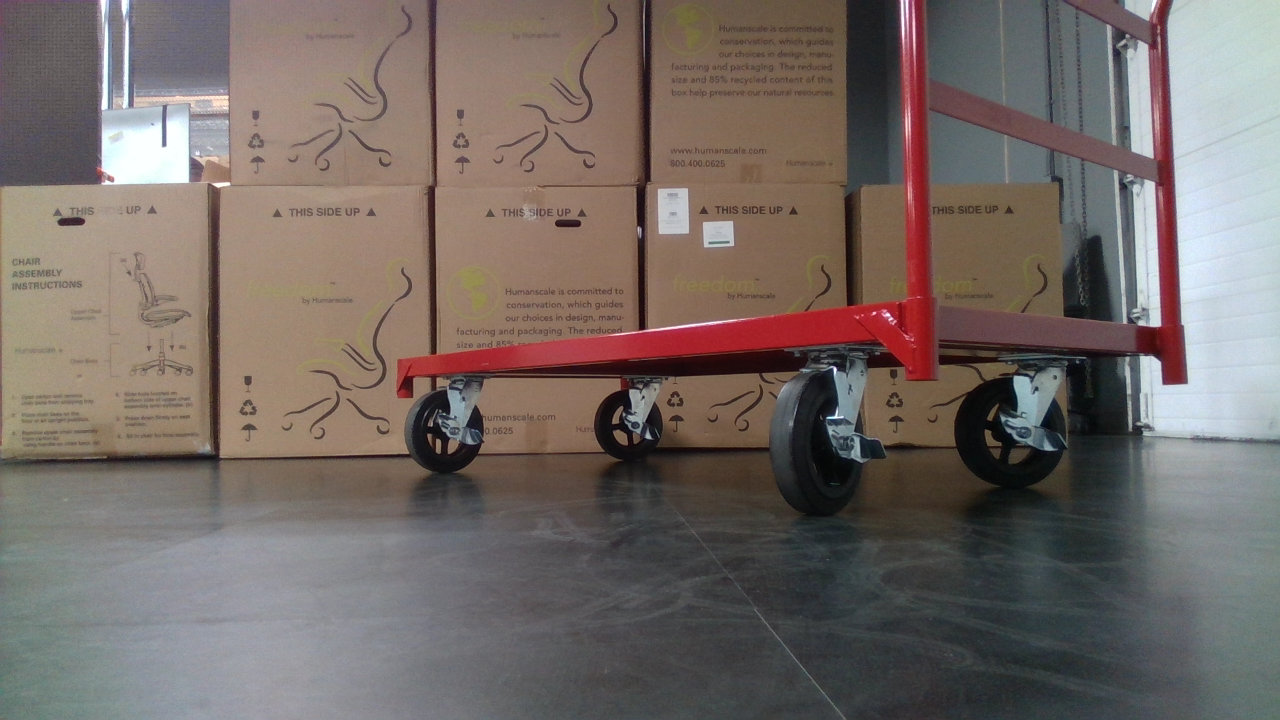Dolly: (395, 0, 1188, 518)
Wheel: (766, 373, 867, 516), (954, 369, 1068, 486), (404, 388, 484, 472), (590, 393, 664, 462)
